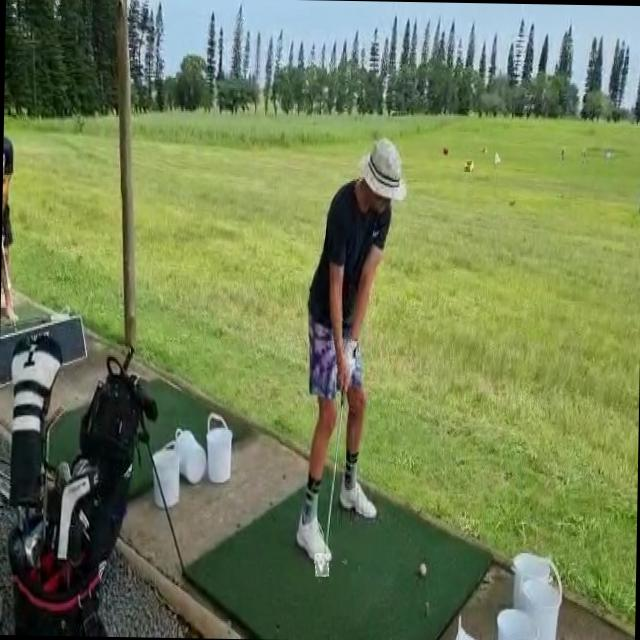club head: (314, 553, 328, 576)
